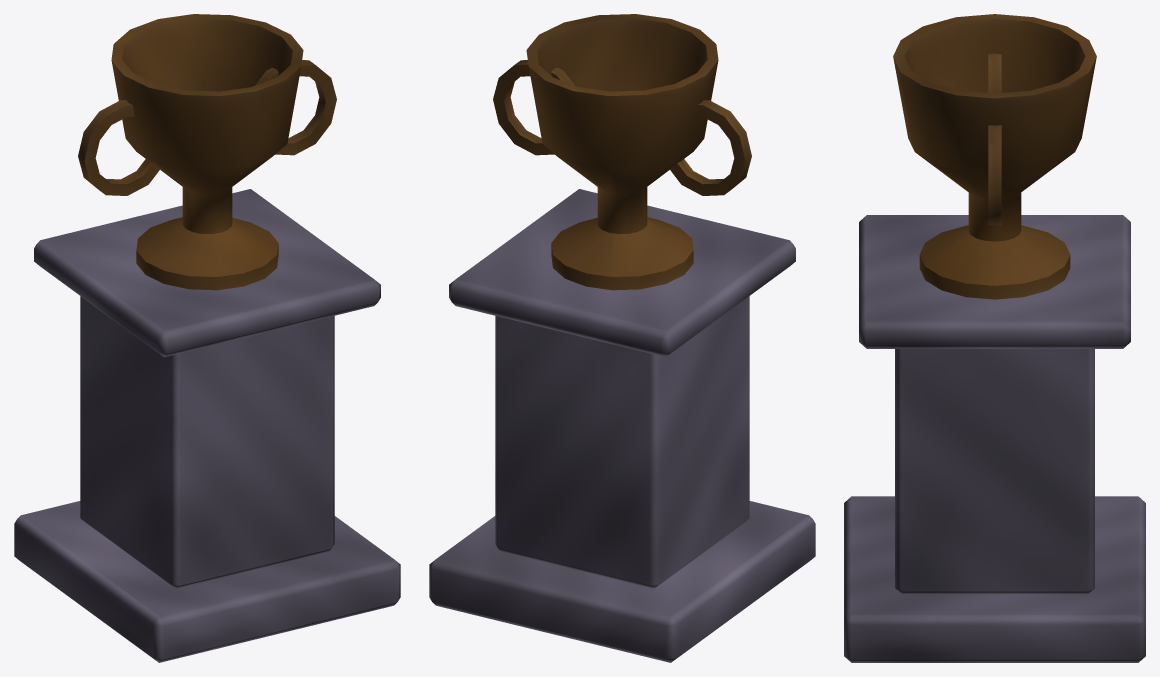
Rendered from Furn_Dun_TrophyStand.fbx.
The picture shows the model from 3 angles, left to right: view 1: azimuth 30°, elevation 25°; view 2: azimuth 150°, elevation 25°; view 3: azimuth 270°, elevation 25°; orthographic projection. The views are drawn at different scales.
Parts seen in each view (by area): view 1: Furn_Dun_TrophyStand; view 2: Furn_Dun_TrophyStand; view 3: Furn_Dun_TrophyStand.
Boxes of the visible parts, box(x1,y1,x2,y2) form: Furn_Dun_TrophyStand: box(14, 14, 400, 662); Furn_Dun_TrophyStand: box(429, 14, 815, 662); Furn_Dun_TrophyStand: box(844, 14, 1145, 662).
Size of the model in its own units: 0.8 by 1.6 by 0.8.
2 materials, 2 textured.
